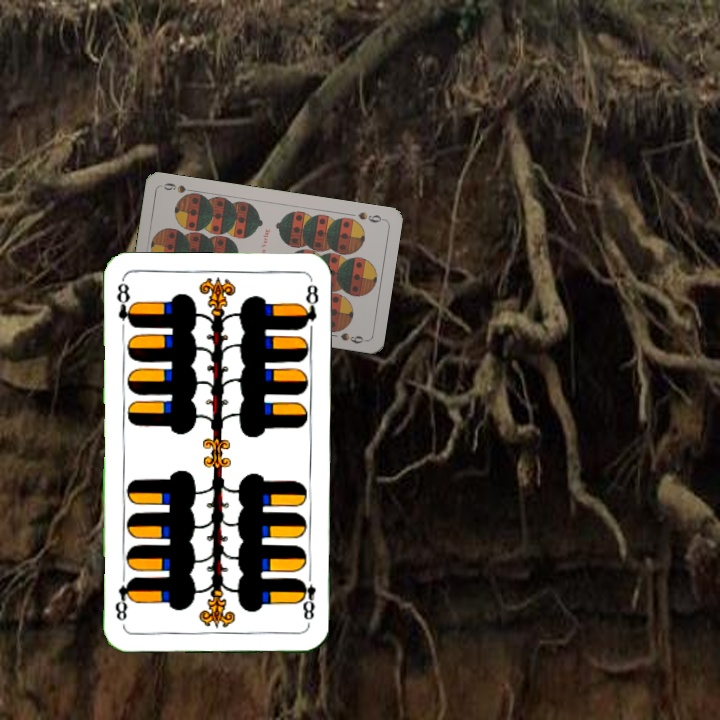E8: (295, 568, 318, 627), (112, 277, 137, 330)
S9: (354, 208, 387, 225)
